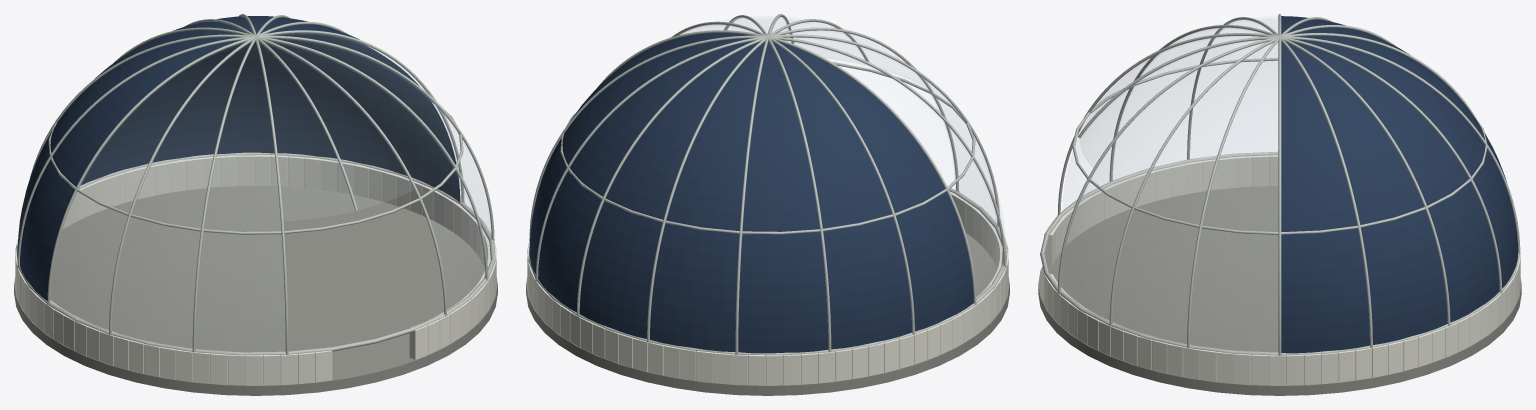
The picture shows the model from 3 angles, left to right: view 1: azimuth 30°, elevation 25°; view 2: azimuth 150°, elevation 25°; view 3: azimuth 270°, elevation 25°; orthographic projection.
Visible parts, largest first — view 1: planetarium-dome-shell; view 2: planetarium-dome-shell; view 3: planetarium-dome-shell.
Boxes of the visible parts, bbox=[...] form: planetarium-dome-shell: bbox=[14, 14, 497, 395]; planetarium-dome-shell: bbox=[526, 14, 1009, 395]; planetarium-dome-shell: bbox=[1038, 14, 1521, 395].
Size of the model in its own units: 7.1 by 4.17 by 7.1.
